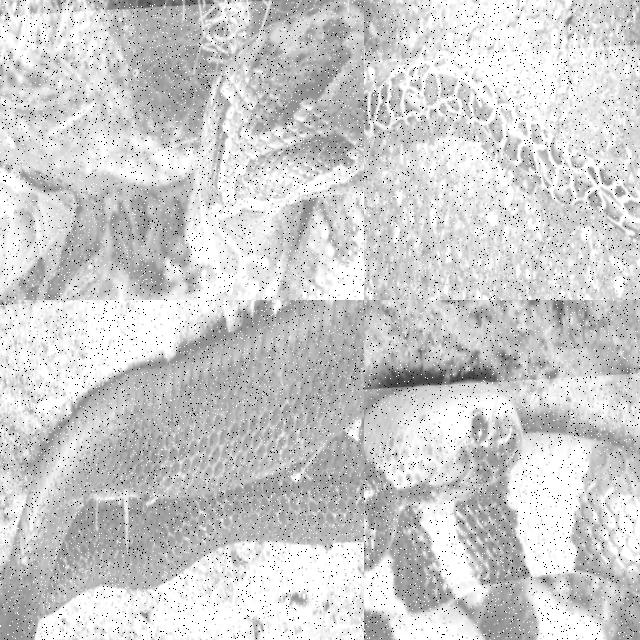Bungarus candidus: (364, 382, 639, 639)
Naja siamensis: (0, 300, 363, 639)
Python bivittatus: (0, 0, 363, 299), (364, 53, 639, 236)
